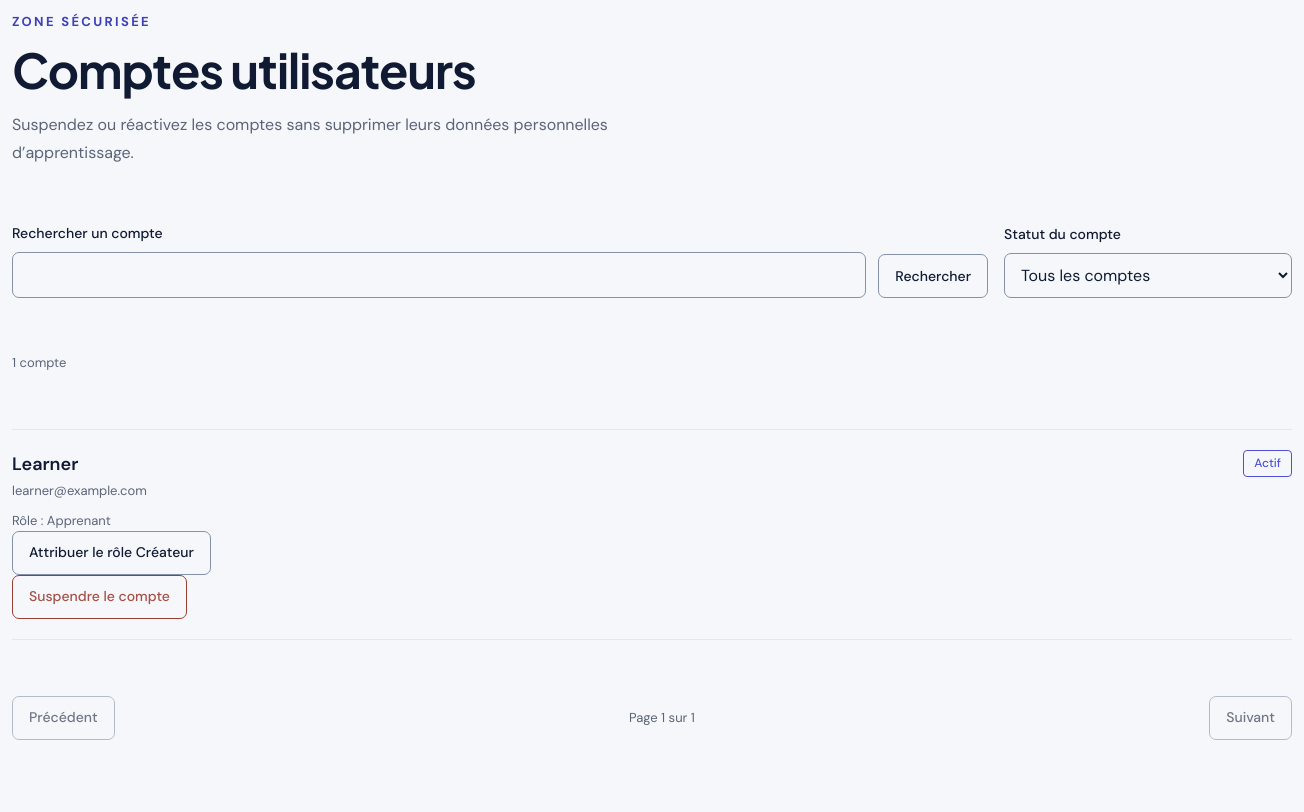
Test: AdminAccountsPage › confirme une suspension en annonçant la révocation et la conservation
Click the button "Suspendre le compte" at (100, 597), box [12,575,187,619]
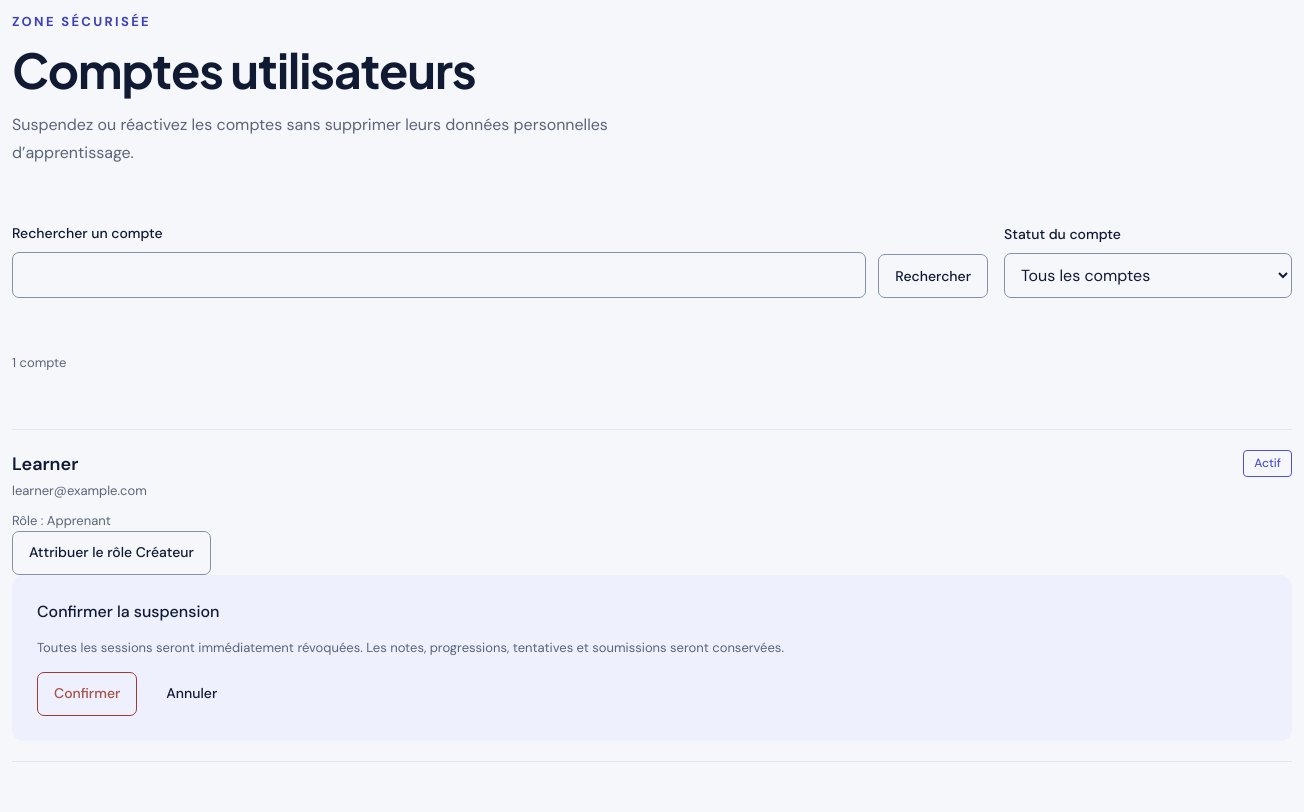
Expected: the heading "Confirmer la suspension" is shown, [37,601,219,622]
Expected: the text "notes, progressions, tentatives" is shown, [37,639,784,656]
Click the button "Confirmer" at (87, 694), box [37,672,137,716]
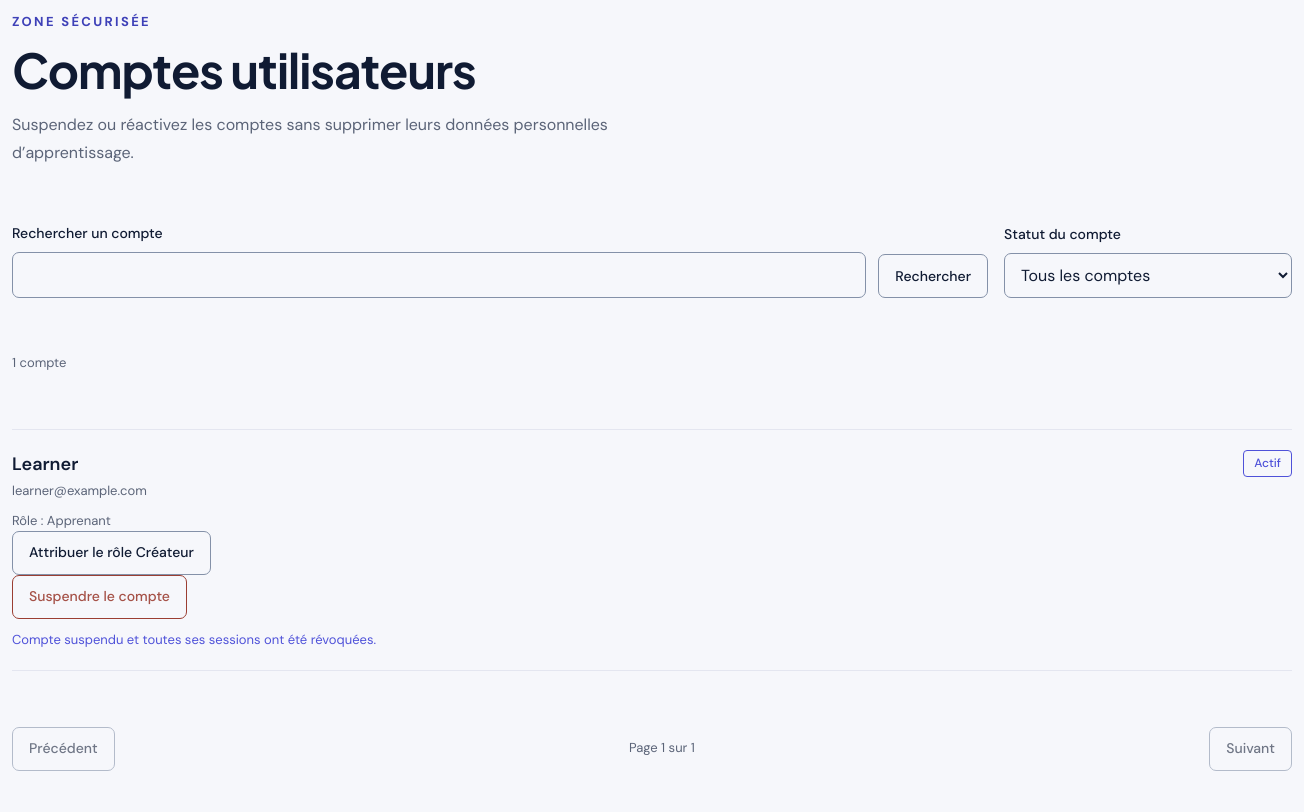
Expected: the text "Compte suspendu et toutes ses sessions ont été révoquées." is shown, [12,631,376,648]
